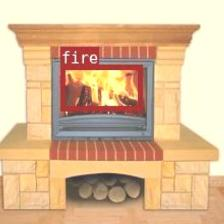fire: (59, 64, 142, 110)
